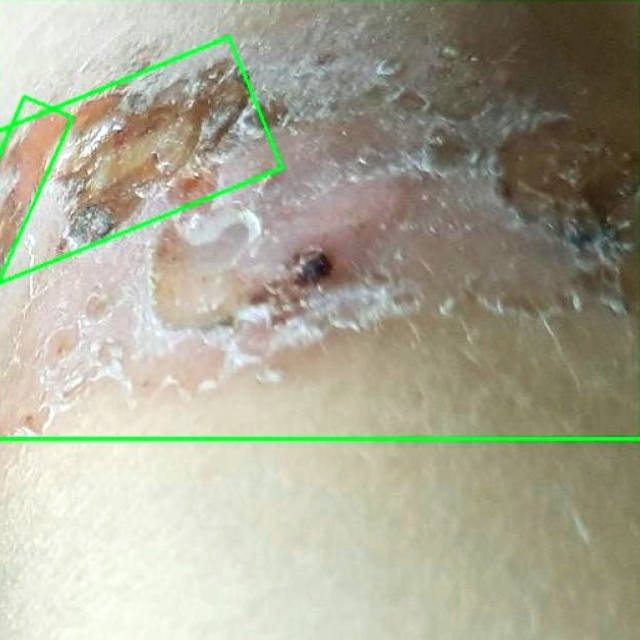Contact Dermatitis: (0, 0, 639, 437), (0, 36, 292, 305), (0, 95, 74, 291)
